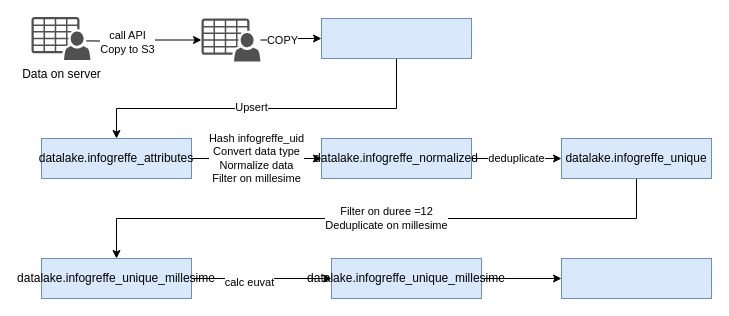
This 729x316 diagram has some shape labels left out. Here are the shapes that lost their labels. From the top down, the box of each, then its label:
(201, 18, 260, 61): Csv on S3
(320, 18, 472, 58): staging.infogreffe_attributes
(560, 258, 712, 298): dwh.infogreffe_attributes
